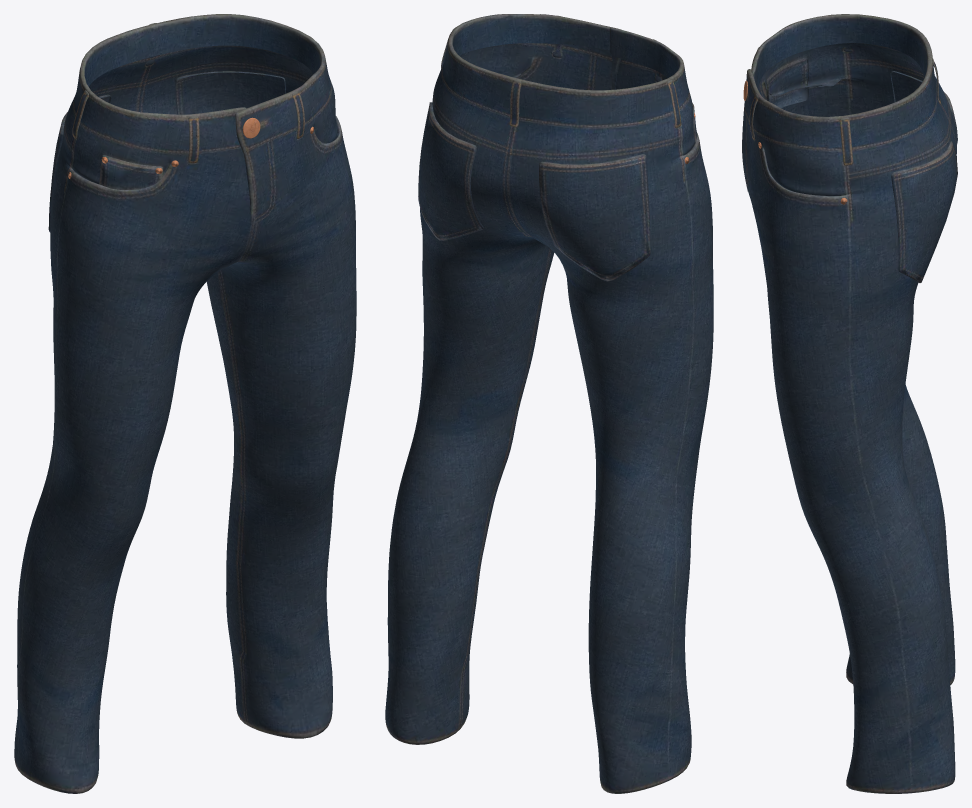
The model's file is calca_jeans.glb.
3 views of the same model, side by side, from view 1: azimuth 30°, elevation 25°; view 2: azimuth 150°, elevation 25°; view 3: azimuth 270°, elevation 25° (orthographic). The views are drawn at different scales.
Visible parts, largest first — view 1: Cube.004_Trousers3_0; view 2: Cube.004_Trousers3_0; view 3: Cube.004_Trousers3_0.
Part boxes in pixels (box(x1,y1,x2,y2)): Cube.004_Trousers3_0: box(14, 14, 356, 793); Cube.004_Trousers3_0: box(385, 14, 713, 793); Cube.004_Trousers3_0: box(742, 14, 957, 793).
Size of the model in its own units: 2.52 by 5.72 by 1.66.
Materials: 1 (1 with a texture image).
